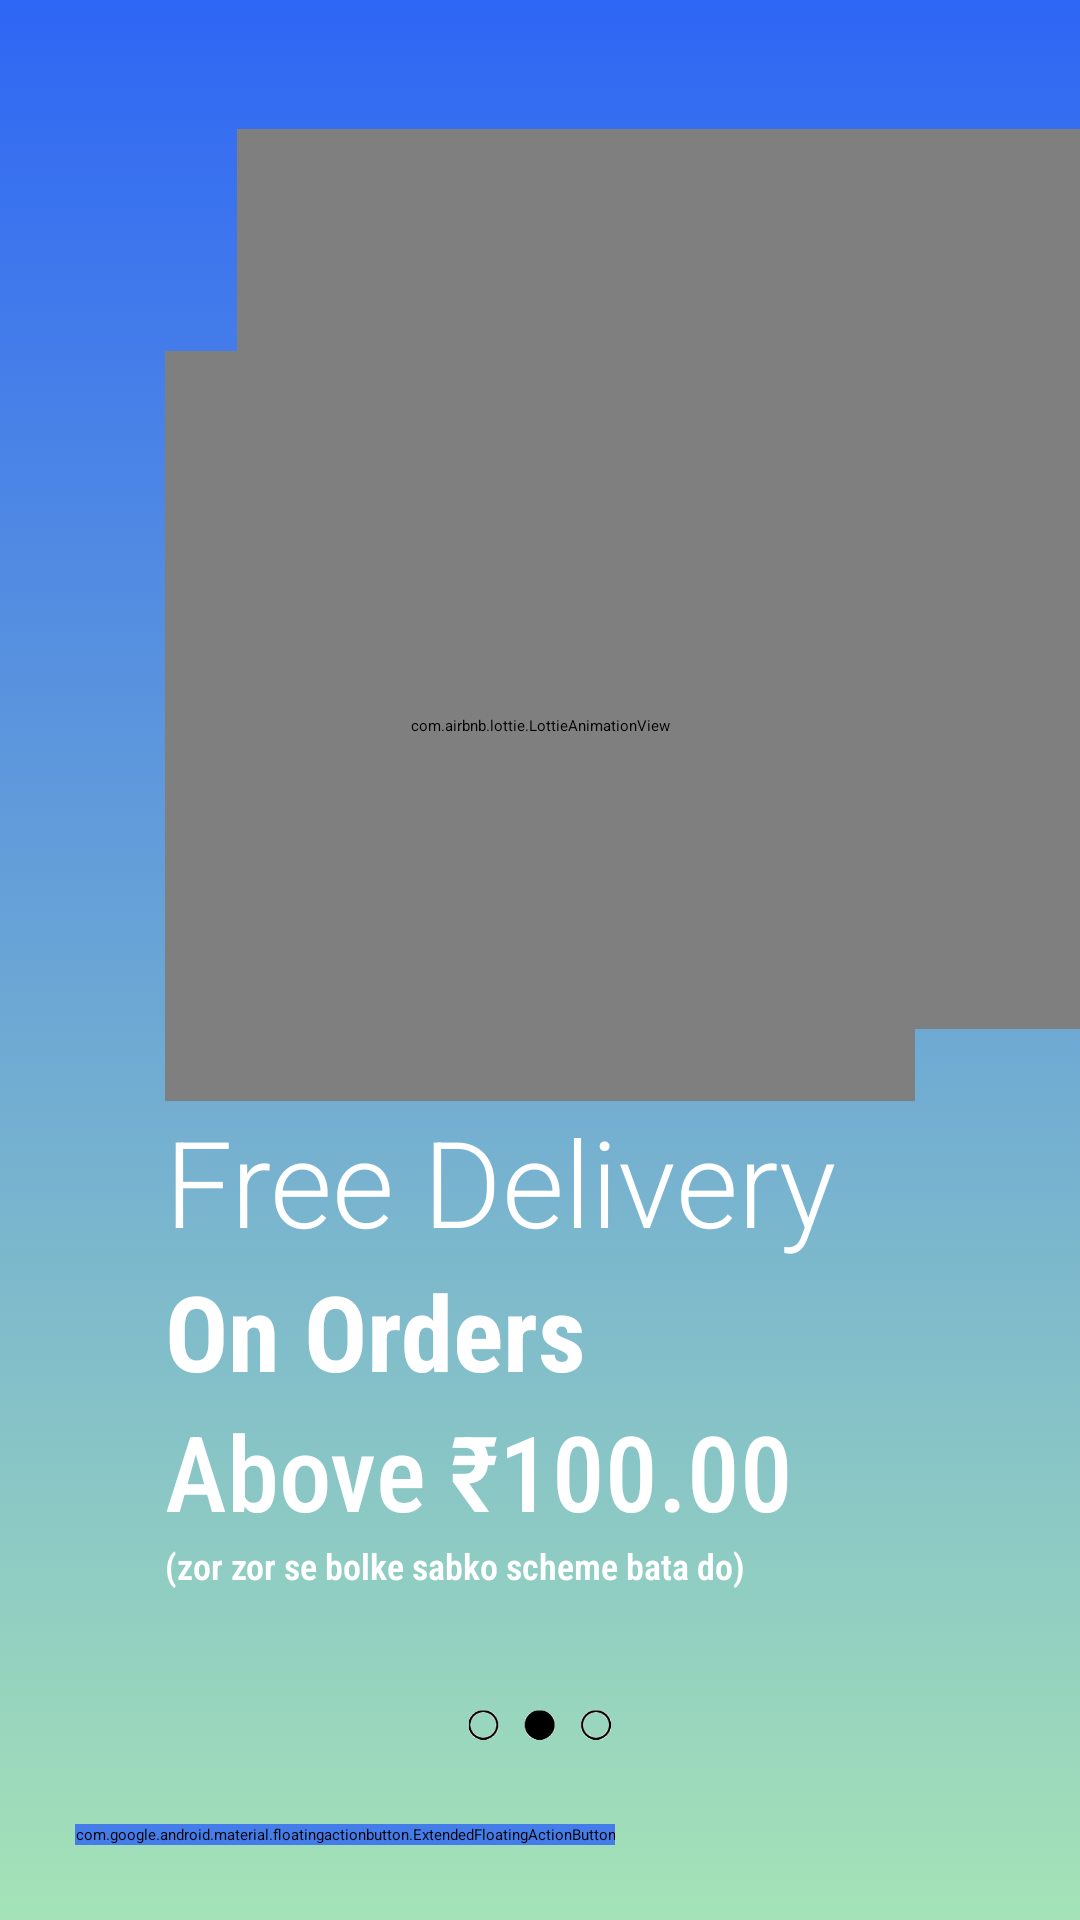

Screen size 1080px×1920px. Icon name, then its center in pixels as (x=x, y=y):
tab: (x=540, y=1725)
